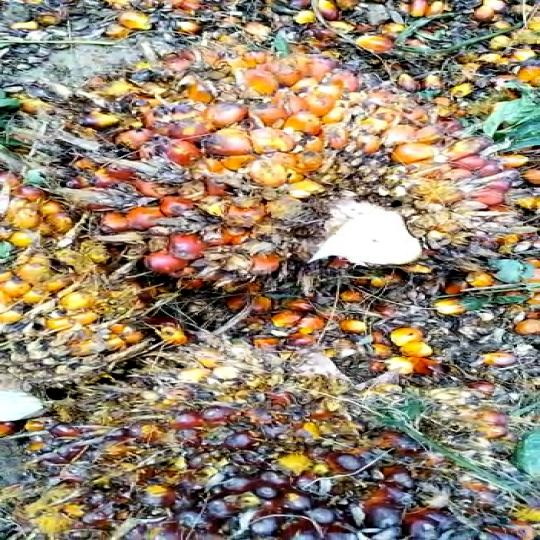masak: (44, 0, 534, 319), (0, 354, 540, 540)
